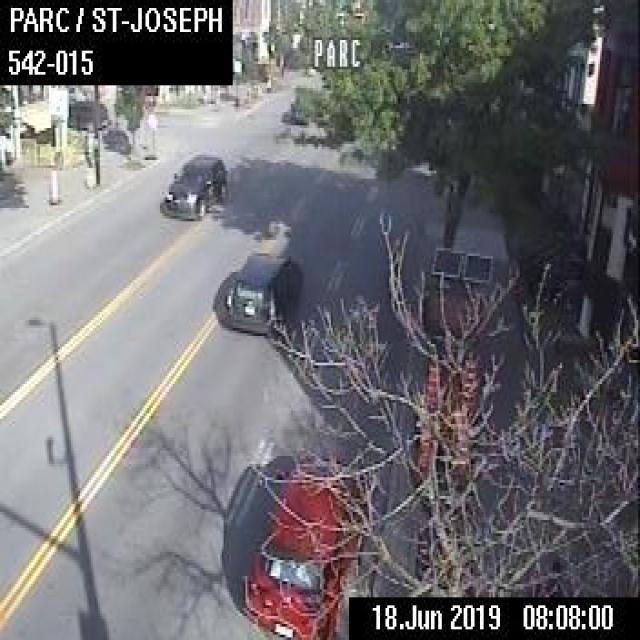construction: (411, 243, 492, 434), (413, 408, 434, 478), (451, 408, 469, 473), (459, 355, 477, 409), (423, 359, 440, 411)
vehicle: (238, 459, 369, 637), (223, 242, 302, 338), (162, 146, 227, 218), (66, 98, 106, 130), (289, 96, 307, 122)
